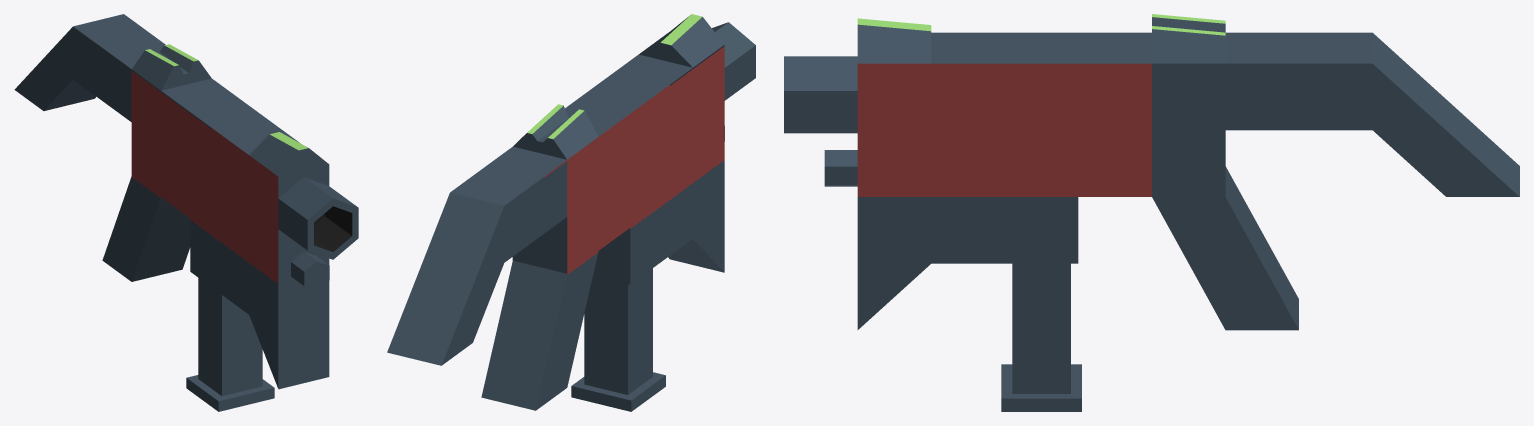
The model's file is ShortGun.gltf.
The picture shows the model from 3 angles, left to right: view 1: azimuth 30°, elevation 25°; view 2: azimuth 150°, elevation 25°; view 3: azimuth 270°, elevation 25°; orthographic projection. The views are drawn at different scales.
Visible parts, largest first — view 1: body, magazine, barrel, cylinder; view 2: body, magazine, barrel; view 3: body, magazine, barrel, cylinder.
Part boxes in pixels (x1,y1,x2,y2): body: (14, 14, 329, 389); magazine: (186, 278, 274, 411); barrel: (278, 177, 358, 259); cylinder: (291, 252, 329, 290); body: (387, 14, 724, 410); magazine: (571, 268, 665, 411); barrel: (712, 22, 755, 100); body: (857, 14, 1519, 330); magazine: (1001, 263, 1081, 411); barrel: (784, 56, 857, 133); cylinder: (824, 150, 857, 186).
Size of the model in its own units: 0.0687 by 0.35 by 0.625.
Materials: 1 (1 with a texture image).
